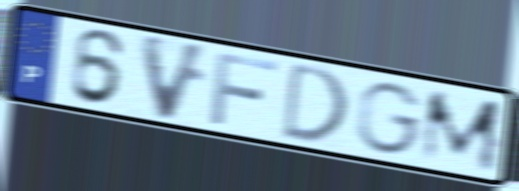6: (68, 26, 127, 109)
D: (277, 58, 352, 145)
F: (207, 49, 282, 128)
G: (355, 79, 427, 158)
M: (417, 88, 504, 175)
V: (136, 29, 214, 125)
